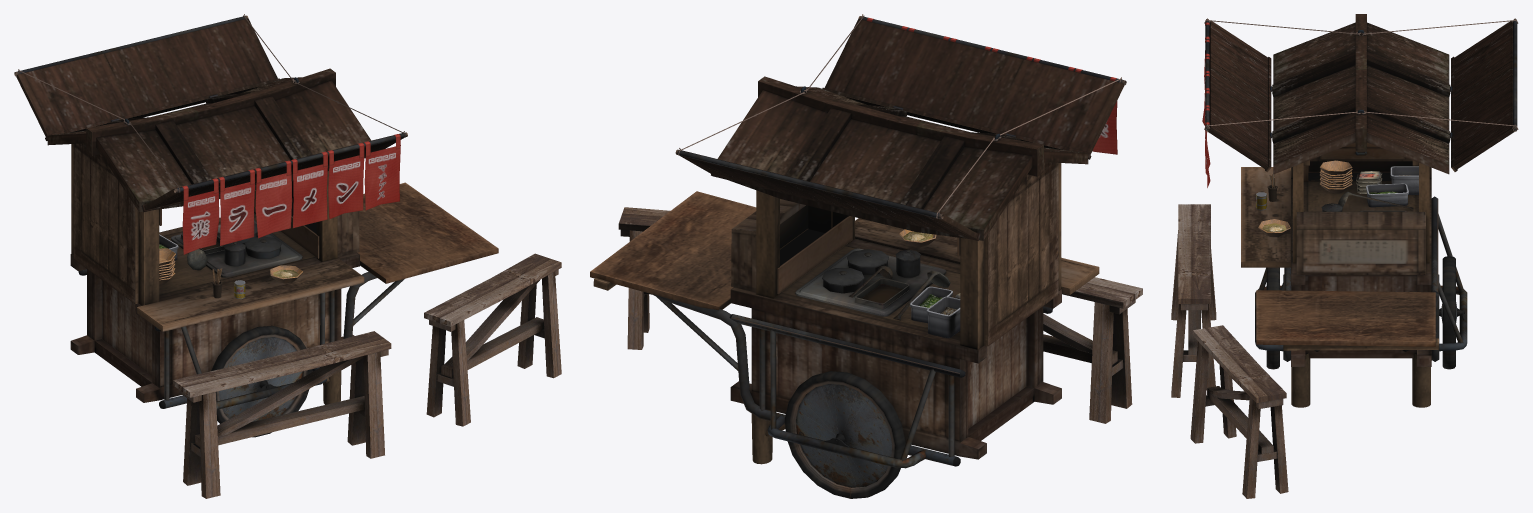
File: yatai.obj
3 views of the same model, side by side, from view 1: azimuth 30°, elevation 25°; view 2: azimuth 150°, elevation 25°; view 3: azimuth 270°, elevation 25° (orthographic). The views are drawn at different scales.
Parts seen in each view (by area): view 1: SM_Yatai, SM_Yatai_bench, SM_yatai_bench2, SM_yatai_props; view 2: SM_Yatai, SM_Yatai_bench, SM_yatai_props, SM_yatai_bench2; view 3: SM_Yatai, SM_yatai_bench2, SM_Yatai_bench, SM_yatai_props.
Part boxes in pixels (x1,y1,x2,y2): SM_Yatai: [14, 14, 498, 437]; SM_Yatai_bench: [173, 331, 391, 498]; SM_yatai_bench2: [424, 253, 561, 426]; SM_yatai_props: [159, 232, 302, 299]; SM_Yatai: [590, 14, 1126, 498]; SM_Yatai_bench: [1043, 277, 1142, 423]; SM_yatai_props: [849, 229, 960, 338]; SM_yatai_bench2: [618, 207, 670, 349]; SM_Yatai: [1202, 14, 1518, 407]; SM_yatai_bench2: [1190, 325, 1288, 498]; SM_Yatai_bench: [1171, 204, 1216, 397]; SM_yatai_props: [1256, 160, 1418, 236].
Size of the model in its own units: 51.53 by 35.76 by 38.43.
